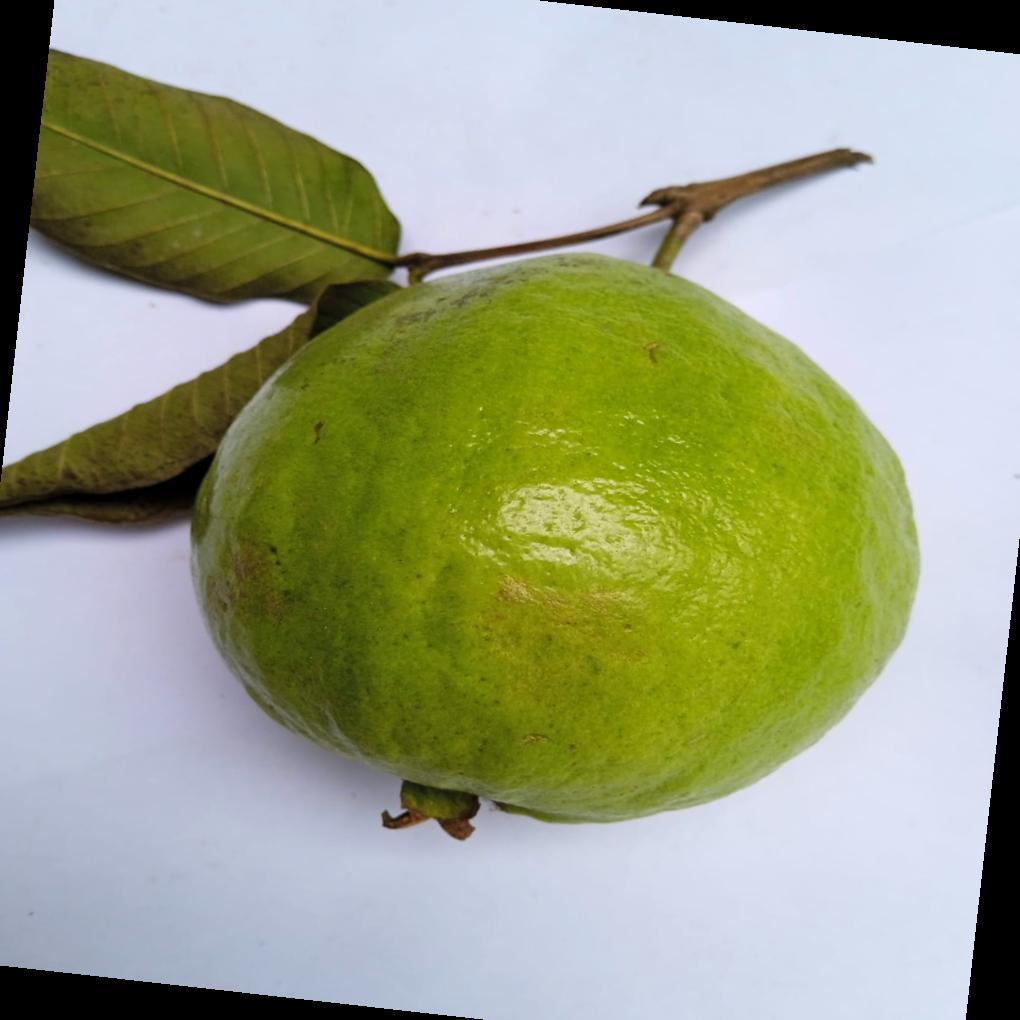FreshGuava: (187, 249, 922, 840)
